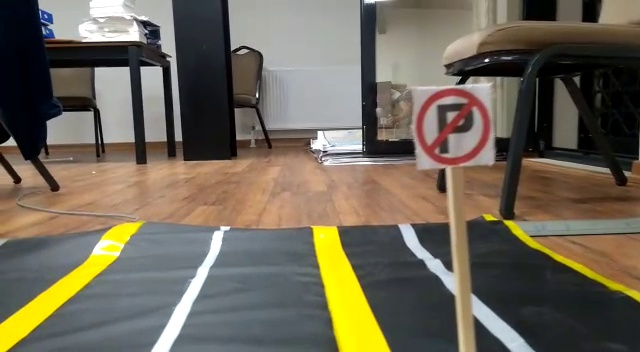park_yapilmaz: (412, 92, 492, 165)
